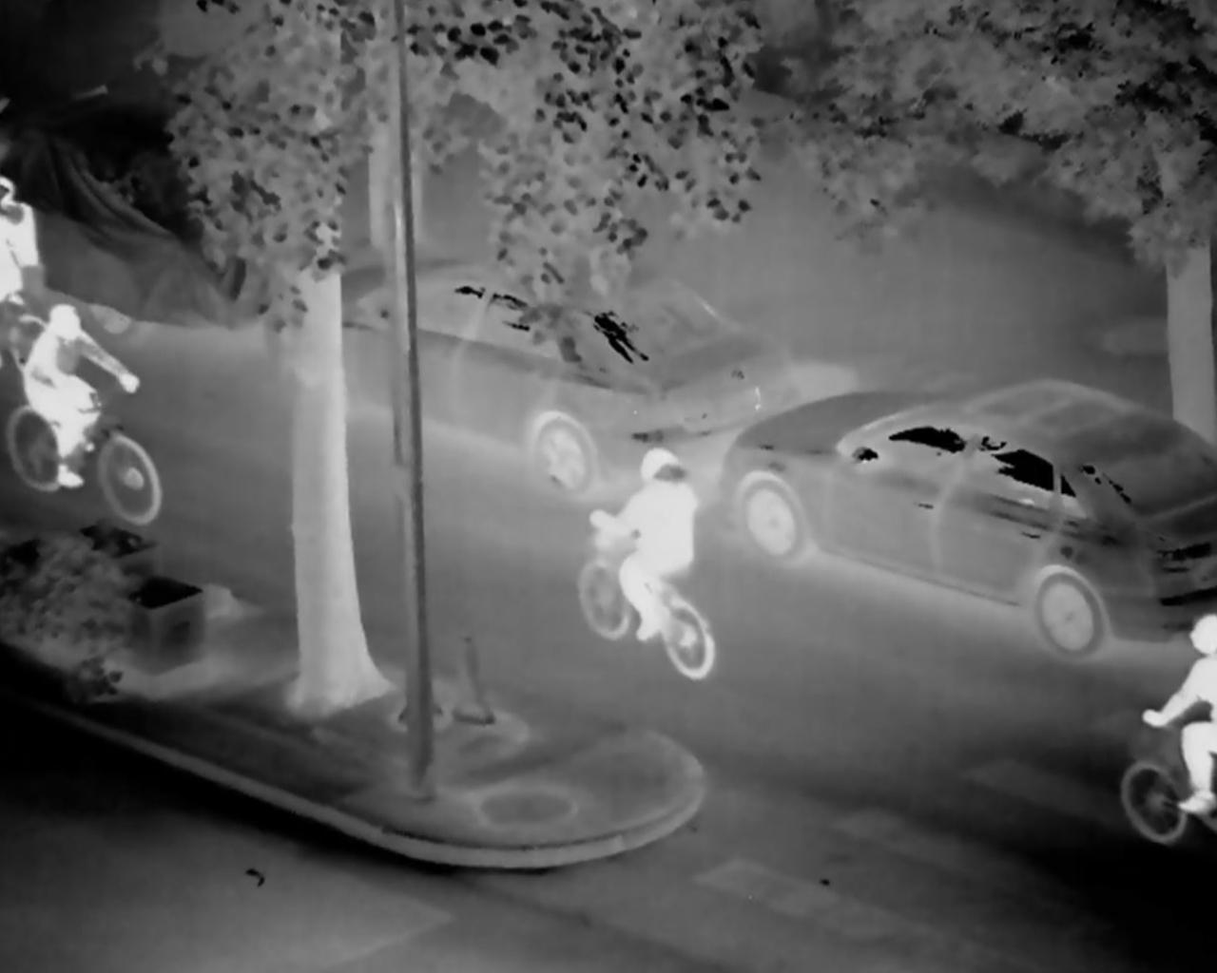person: (584, 447, 704, 663), (12, 303, 144, 499), (1132, 611, 1217, 827)
